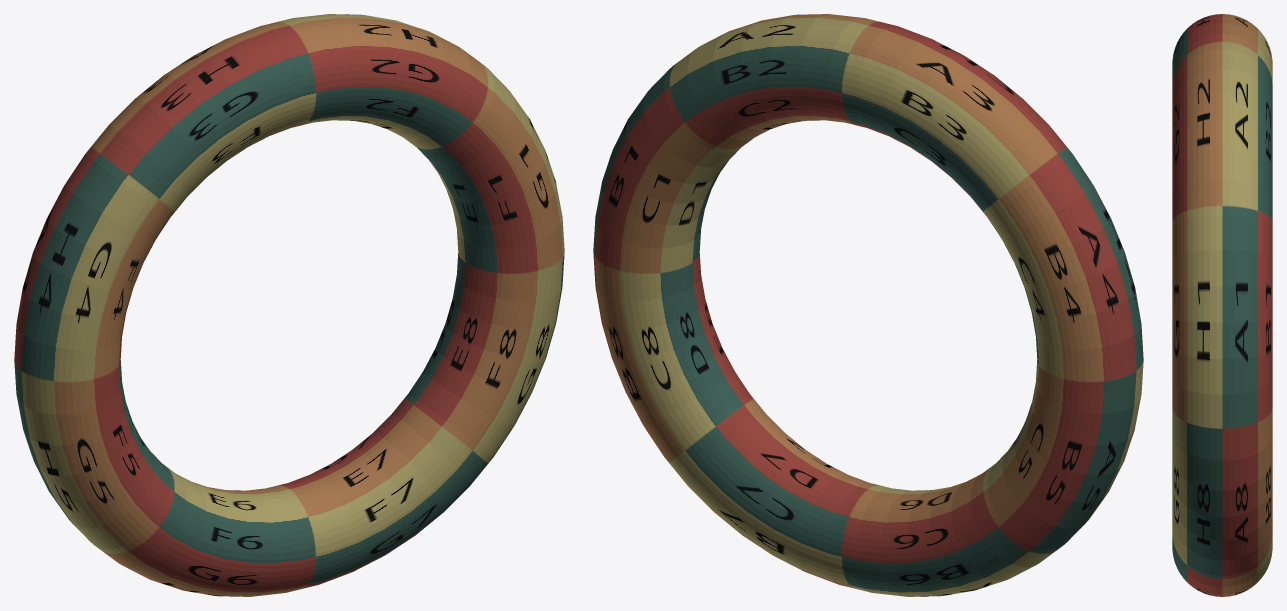
File: texture_torus_R11_r6.glb
The picture shows the model from 3 angles, left to right: view 1: azimuth 30°, elevation 25°; view 2: azimuth 150°, elevation 25°; view 3: azimuth 270°, elevation 25°; orthographic projection. The views are drawn at different scales.
Visible parts, largest first — view 1: world; view 2: world; view 3: world.
Part boxes in pixels (x1=…): world: x1=14, y1=14, x2=564, y2=596; world: x1=593, y1=14, x2=1143, y2=596; world: x1=1172, y1=14, x2=1272, y2=596.
Bounding box in the file's own units: 20.93 × 20.89 × 3.59.
1 material, 1 textured.
